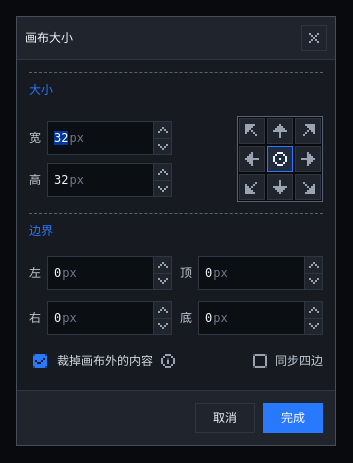
Test case: CanvasResizeDialog › undoes a complete live dimension edit instead of one browser character
Step 1. Replace the text in the number field named "画布宽度" with "54" → (100,138), box [48,122,153,154]
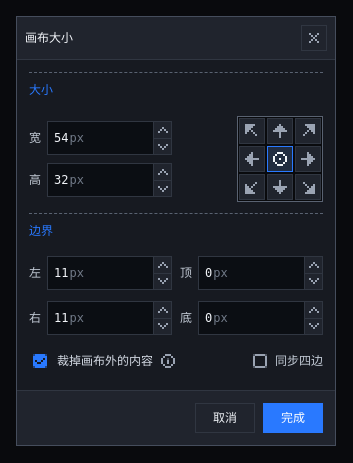
Step 2. Press z in the number field named "画布宽度", box [48,122,153,154]
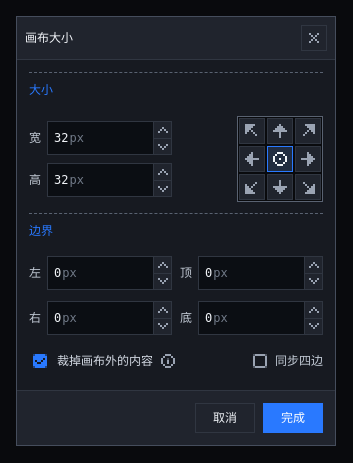
Expected: the number field named "画布宽度" holds "32", [48,122,153,154]
